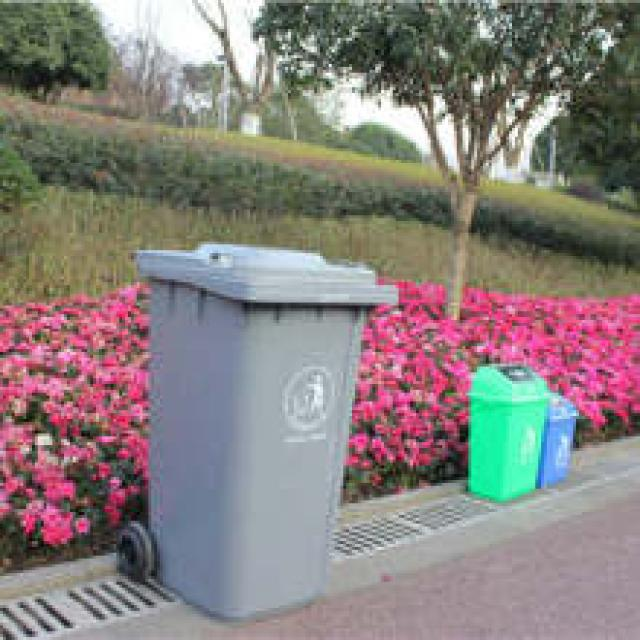garbage_bin: (134, 238, 396, 616), (462, 361, 547, 500), (532, 393, 579, 486)
